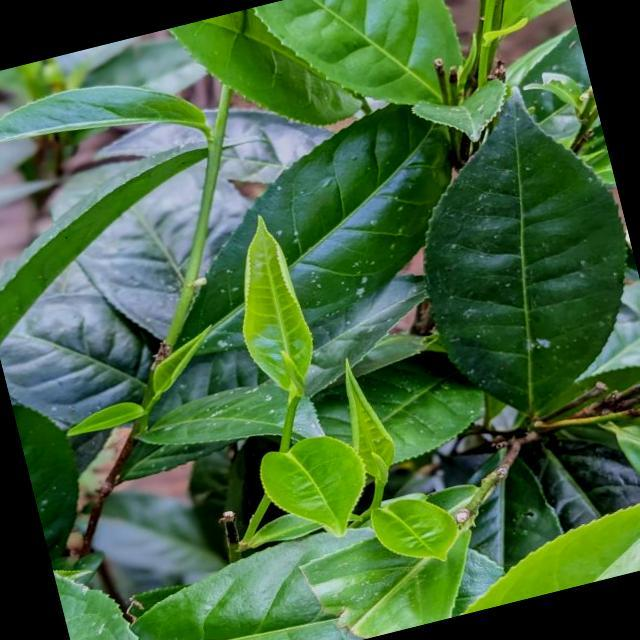Stem: (287, 398, 300, 409)
